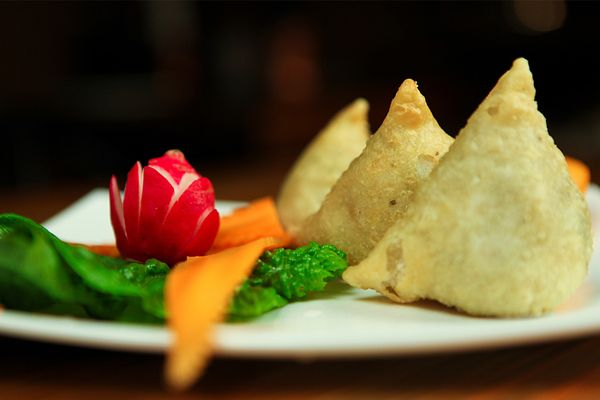curry: (227, 241, 349, 320)
